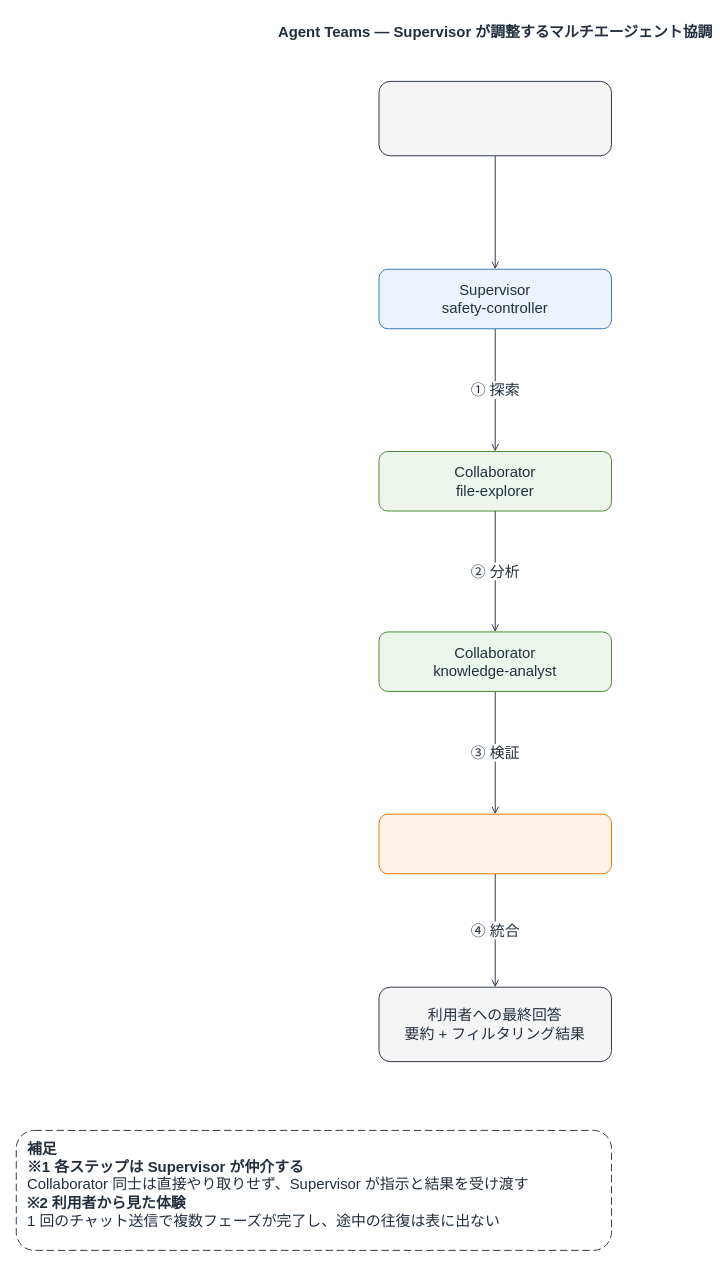
Some shapes in this 728 by 1267 pixel diagram are drawn without their labels. The shapes that lost their labels are listed below. From the top down, each one's centre as x and y in pixels, then its label:
At (494,118): "利用者の指示 「engineering/ を分析して」".
At (494,843): "Reviewer compliance-auditor".
